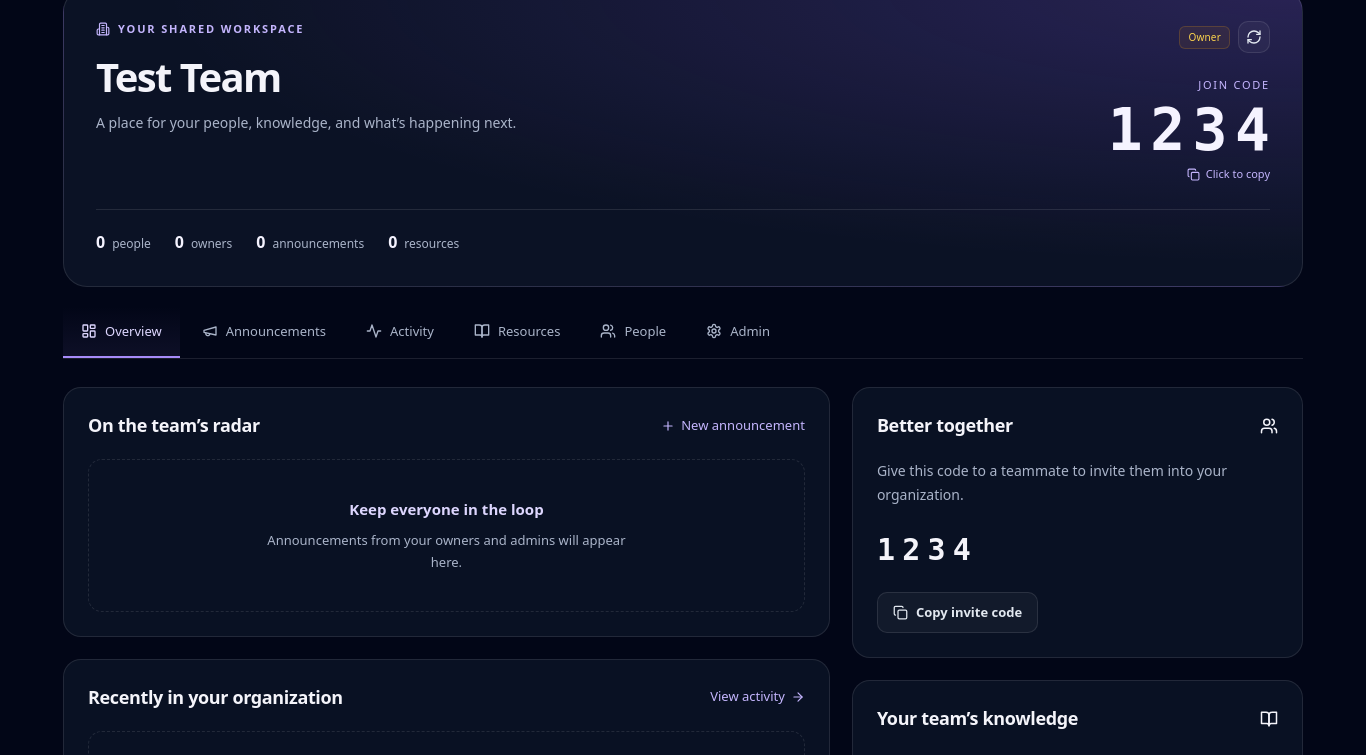
Test: Organization deletion › requires both acknowledgments and closes after success
This screenshot has width=1366, height=755.
Click the button "Admin" at (738, 332), box [688, 306, 788, 358]
(page scrolled)
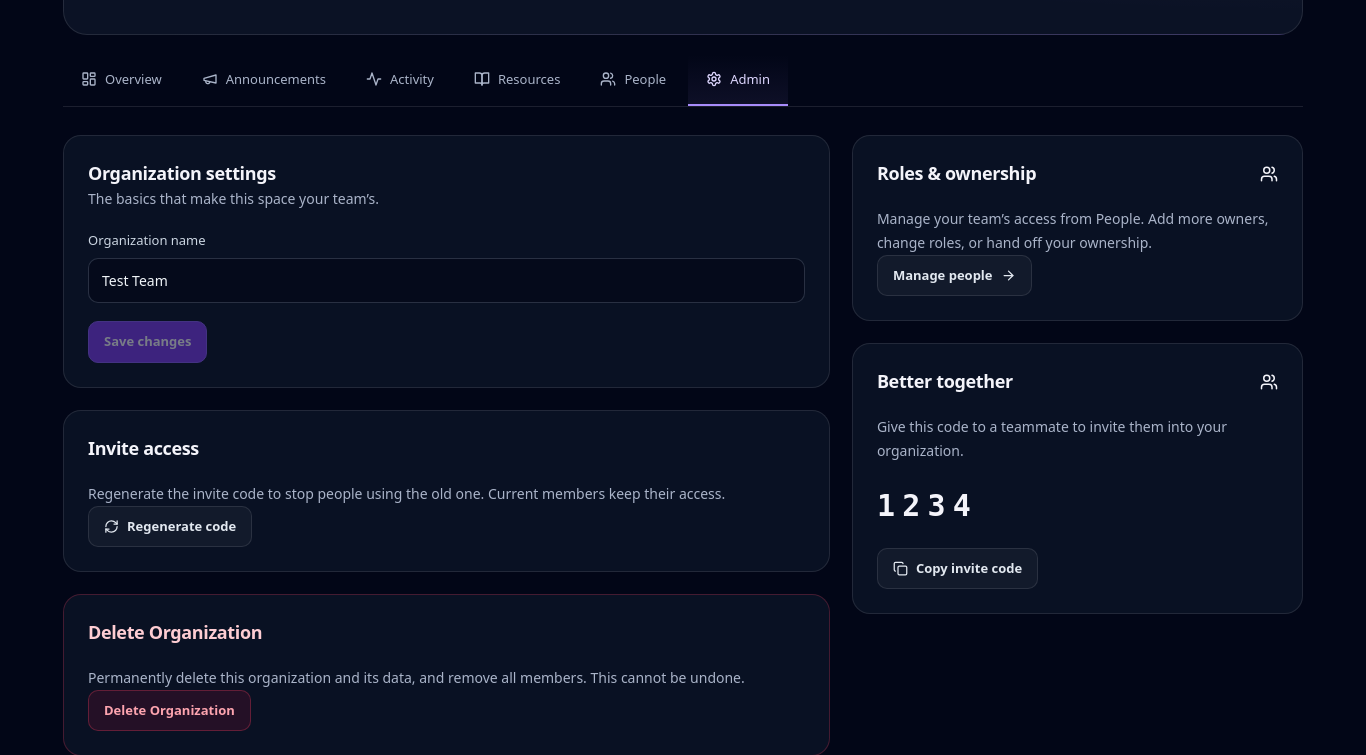
Click the button "Delete Organization" at (169, 711), box [88, 690, 251, 731]
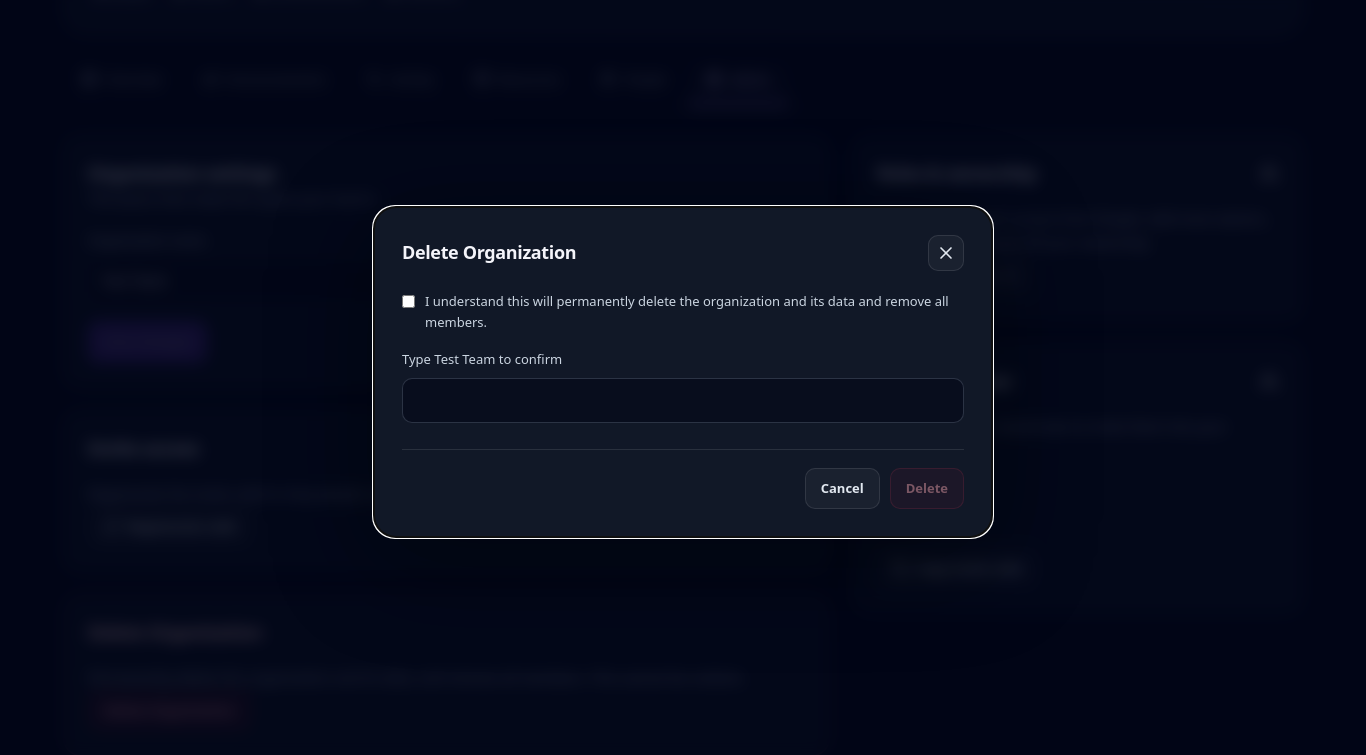
Now the button "Delete" is disabled, box [890, 468, 964, 509]
Click the checkbox at (408, 301), box [402, 295, 415, 308]
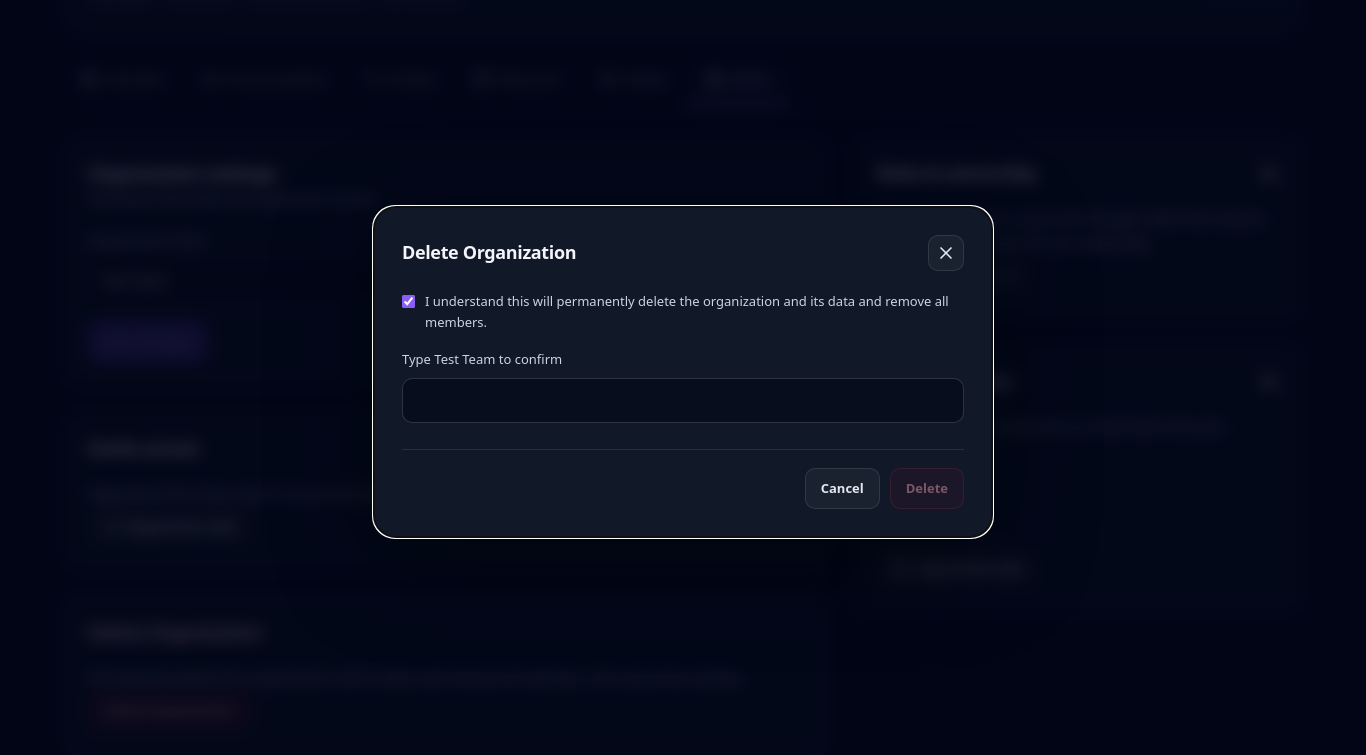
Type "test team" into the field named "Organization name to confirm deletion" at (683, 400), box [402, 378, 964, 423]
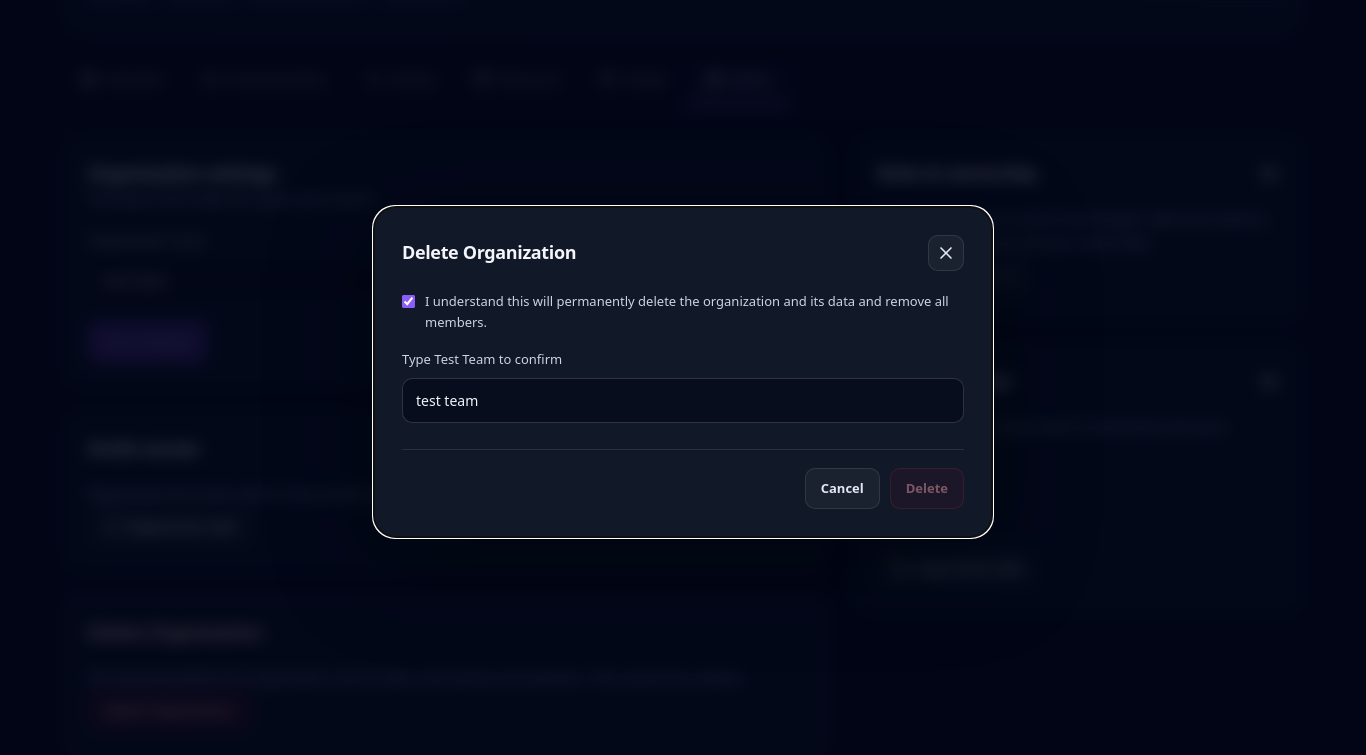
Now the button "Delete" is disabled, box [890, 468, 964, 509]
Replace the text in the field named "Organization name to confirm deletion" with "Test Team" at (683, 400), box [402, 378, 964, 423]
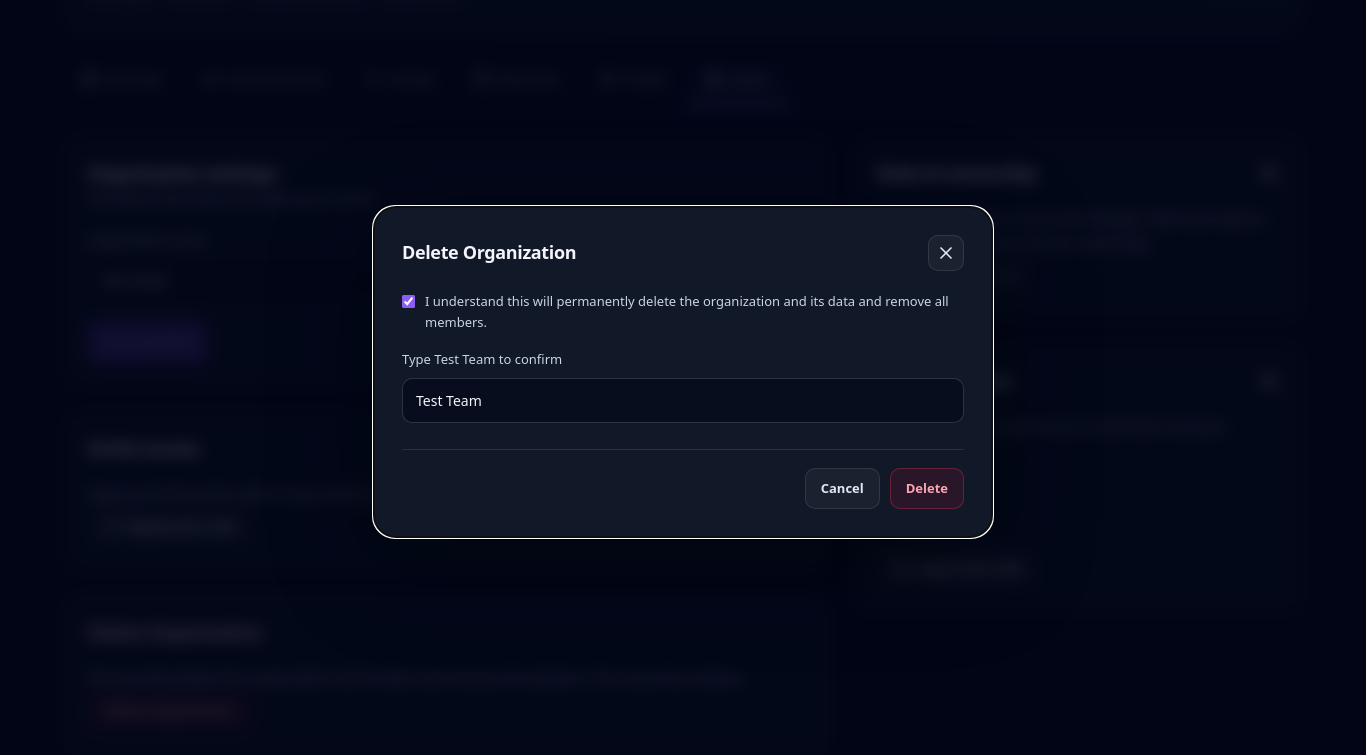
Click the button "Delete" at (927, 489), box [890, 468, 964, 509]
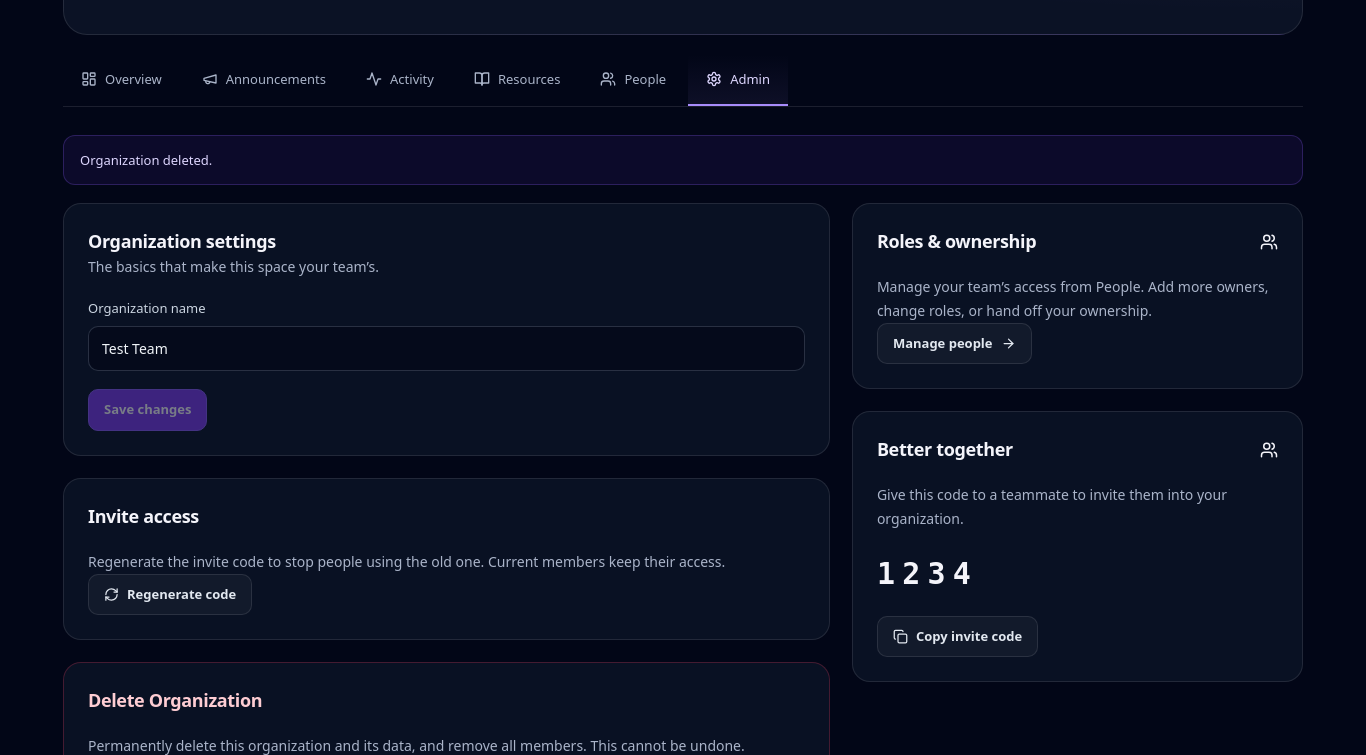
Now the dialog is gone
